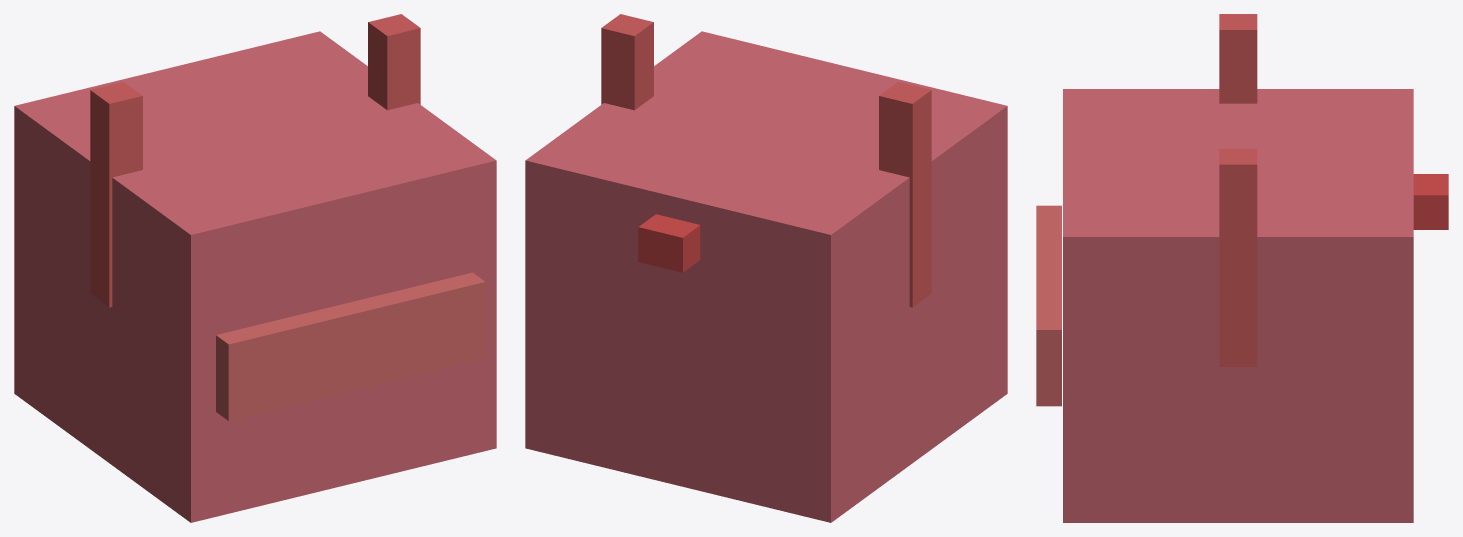
File: head_003_valkyrion.glb
3 renders of one model, left to right at view 1: azimuth 30°, elevation 25°; view 2: azimuth 150°, elevation 25°; view 3: azimuth 270°, elevation 25°, orthographic.
Parts seen in each view (by area): view 1: geometry_0, geometry_1, geometry_3, geometry_2; view 2: geometry_0, geometry_3, geometry_2, geometry_4; view 3: geometry_0, geometry_2, geometry_1, geometry_3, geometry_4.
Boxes of the visible parts, bbox=[...] form: geometry_0: bbox=[14, 31, 496, 522]; geometry_1: bbox=[216, 272, 485, 420]; geometry_3: bbox=[90, 82, 142, 307]; geometry_2: bbox=[368, 14, 420, 110]; geometry_0: bbox=[525, 31, 1007, 522]; geometry_3: bbox=[879, 82, 931, 307]; geometry_2: bbox=[601, 14, 653, 110]; geometry_4: bbox=[638, 214, 700, 272]; geometry_0: bbox=[1063, 89, 1413, 522]; geometry_2: bbox=[1219, 148, 1257, 366]; geometry_1: bbox=[1036, 205, 1061, 406]; geometry_3: bbox=[1219, 14, 1257, 103]; geometry_4: bbox=[1413, 174, 1448, 229].
Size of the model in its own units: 0.56 by 0.6225 by 0.647.
